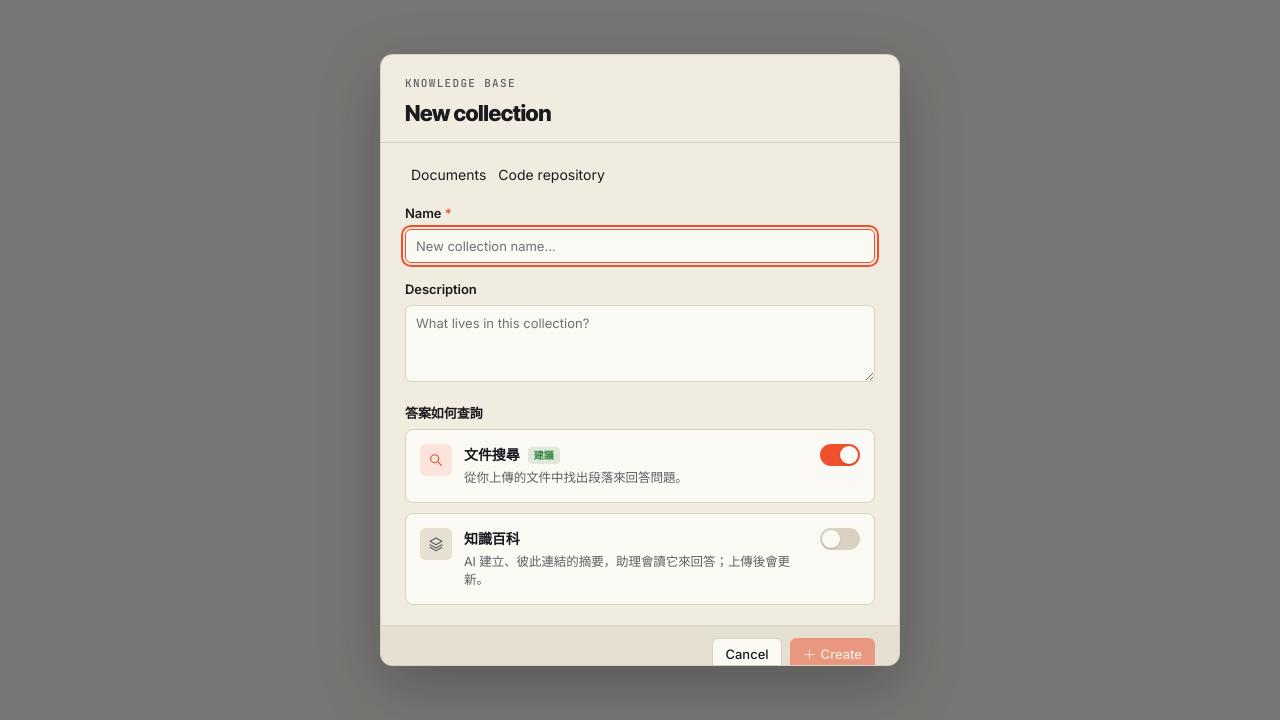
Test: NewCollectionModal — Code repository mode (#355) › rejects a non-http(s) URL (file:// blocked) and disables Create
Step 1. Click the button "Code repository" → (552, 175), box [492,163,611,187]
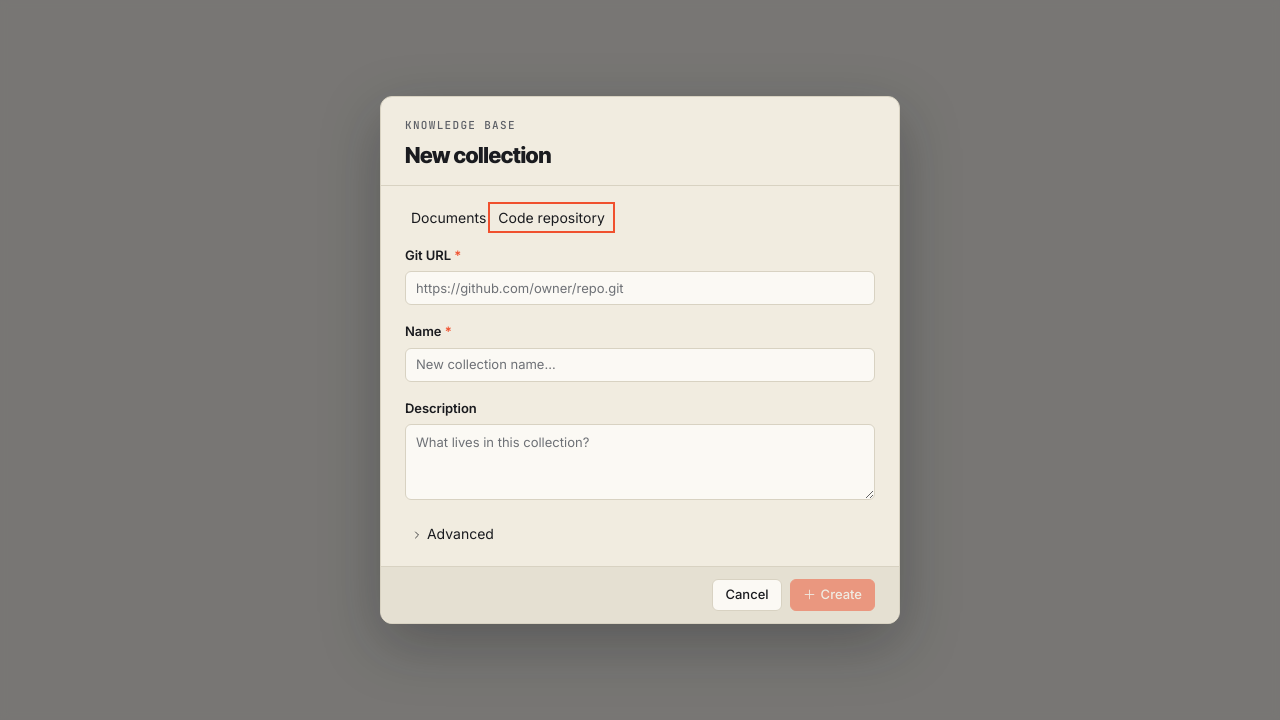
Step 2. Type "file:///home/me/repo" into the field with placeholder "https://github.com/owner/repo.git" → (640, 288), box [405,271,875,305]
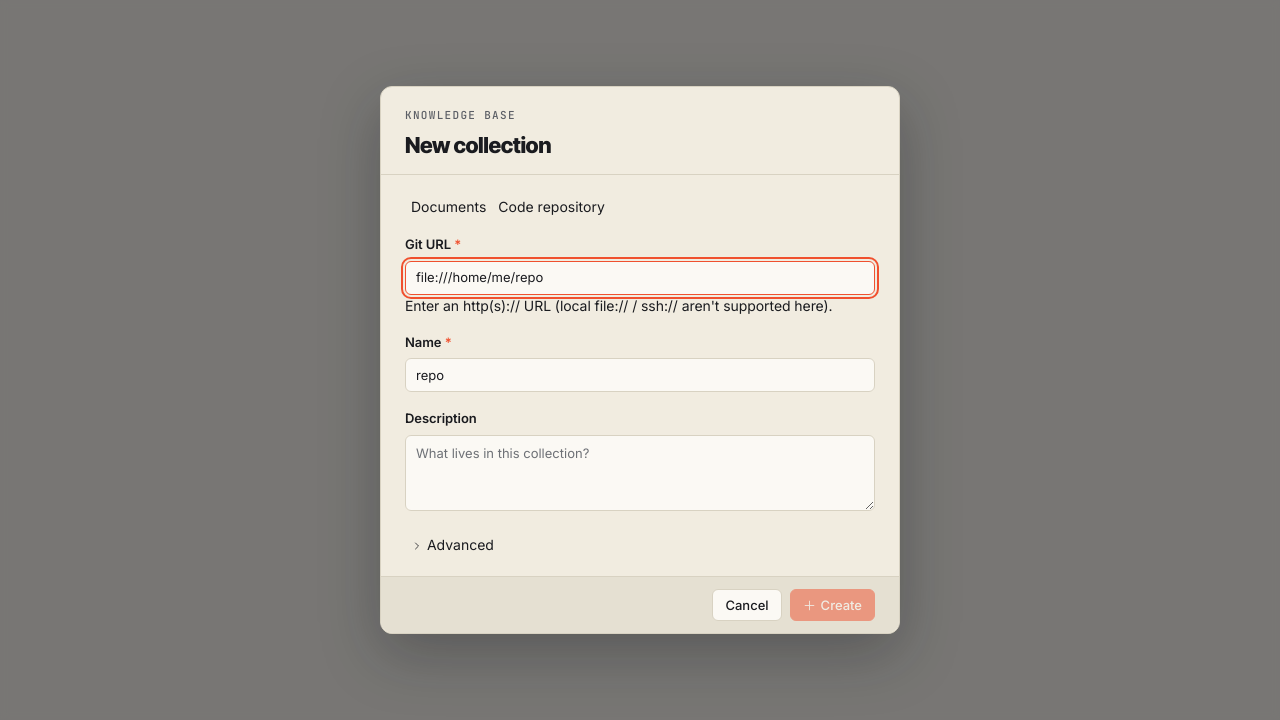
Expected: the button "Create" is disabled, [790,589,875,621]
Result: the message "Enter an http(s):// URL (local file:// / ssh:// aren't supported here)." is shown at [405,297,832,314]
